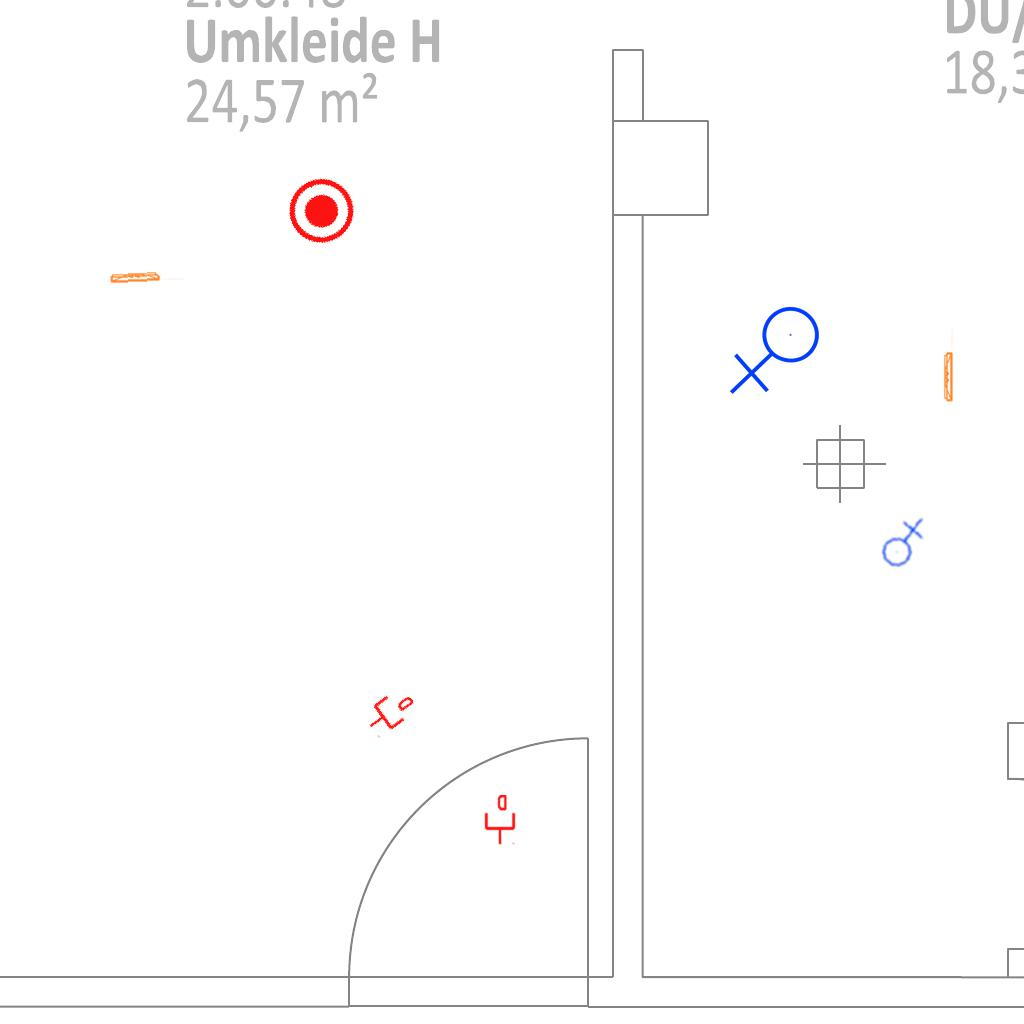Datenanschluss_einfach: (359, 683, 421, 741), (483, 795, 517, 845)
Elektroanschluss_allgemein_230V_Geraeteanschlussdose_230V: (729, 305, 828, 399), (873, 515, 930, 570)
Sicherheitsleuchte_Wandeinbau: (107, 268, 187, 285), (942, 325, 954, 404)
Taster: (279, 167, 367, 255)
